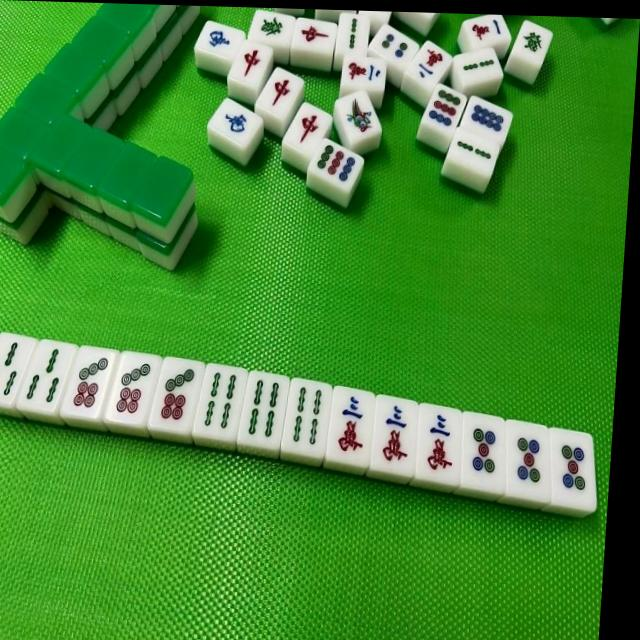m3: (328, 390, 373, 459), (418, 408, 460, 476), (376, 400, 418, 468)
s3: (23, 341, 69, 409), (0, 335, 28, 403)
s4: (197, 367, 243, 434), (283, 382, 329, 448), (242, 375, 286, 442)
t5: (503, 430, 545, 493), (551, 437, 592, 500), (462, 419, 503, 479)
t7: (154, 363, 198, 426), (113, 358, 156, 421), (70, 352, 110, 414)
